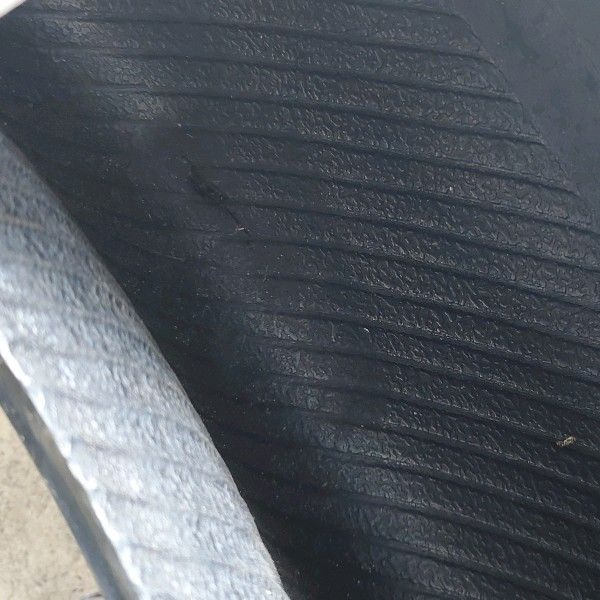cut: (179, 154, 254, 236)
